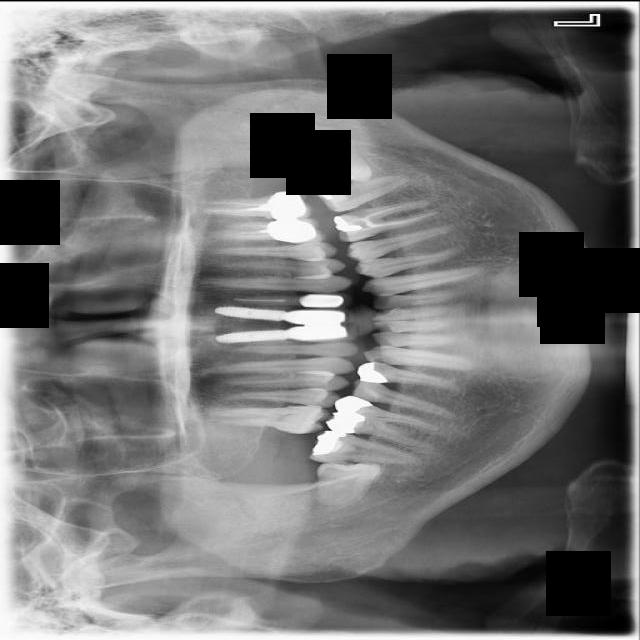52: (309, 169, 363, 223), (323, 388, 375, 441), (285, 306, 360, 342), (308, 425, 362, 470), (260, 185, 314, 225), (266, 213, 326, 246), (332, 205, 377, 246), (297, 292, 352, 307), (356, 362, 395, 382), (333, 179, 352, 186)
73: (359, 194, 442, 236), (204, 192, 272, 218), (211, 220, 277, 240), (231, 293, 298, 306), (578, 32, 587, 40)
BioHorizons Implant: (202, 186, 313, 232)
Biomet 3i Implant: (308, 139, 373, 182)
Blue Sky Bio Implant: (314, 173, 414, 213)
Implant: (308, 428, 420, 469)
Keystone Dental Implant: (316, 460, 382, 501)
